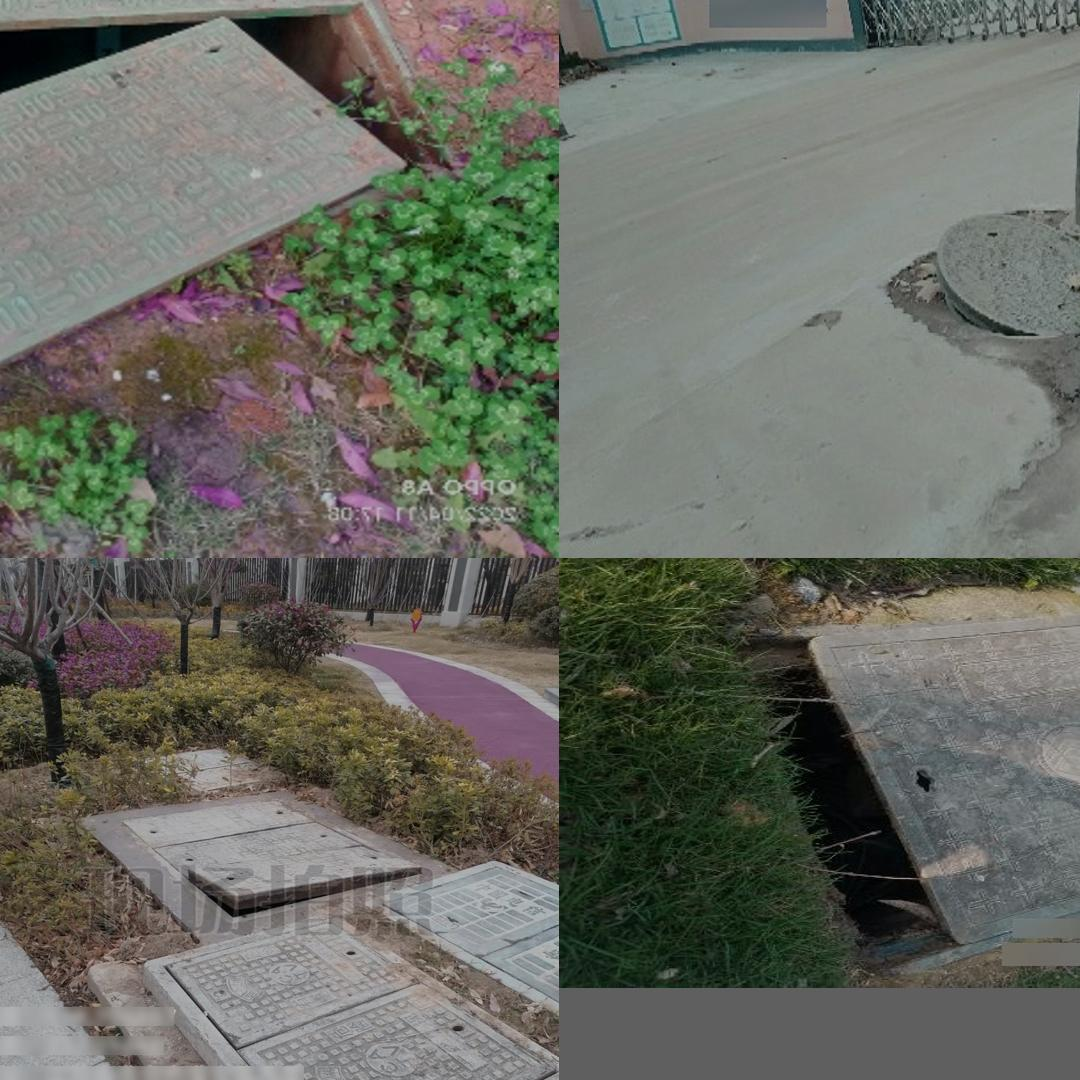good: (140, 911, 559, 1080), (366, 860, 559, 1015)
uncovered: (0, 0, 452, 408), (743, 607, 1080, 974), (117, 795, 428, 923), (934, 213, 1080, 334)
